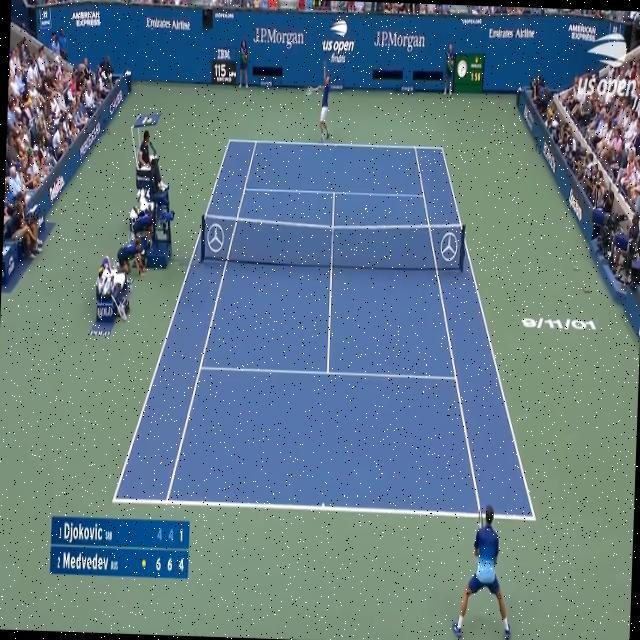Emirates: (146, 17, 171, 32), (490, 27, 514, 41)
